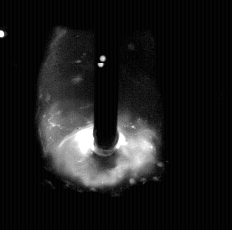arame: (95, 0, 119, 151)
poca: (38, 0, 161, 230)
